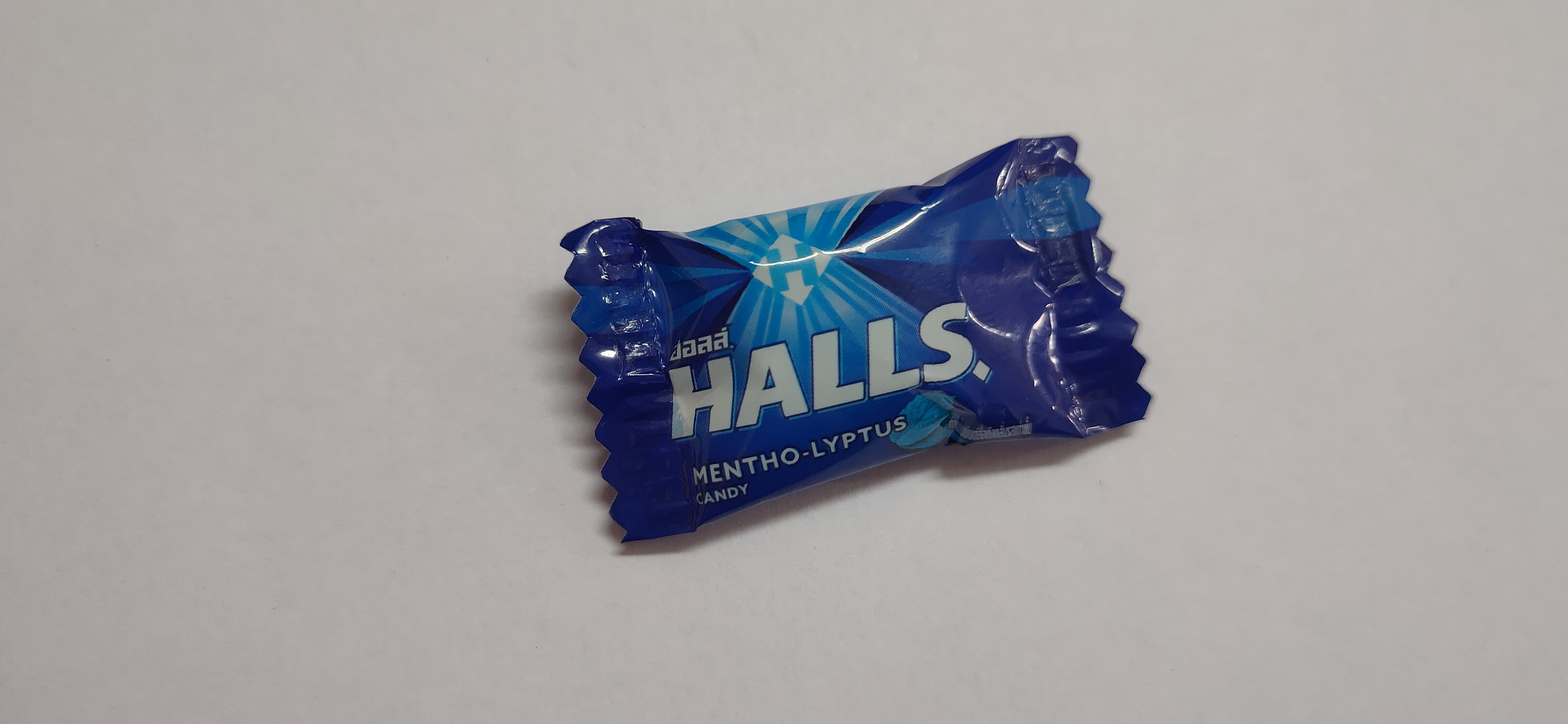plastic: (549, 116, 1165, 562)
